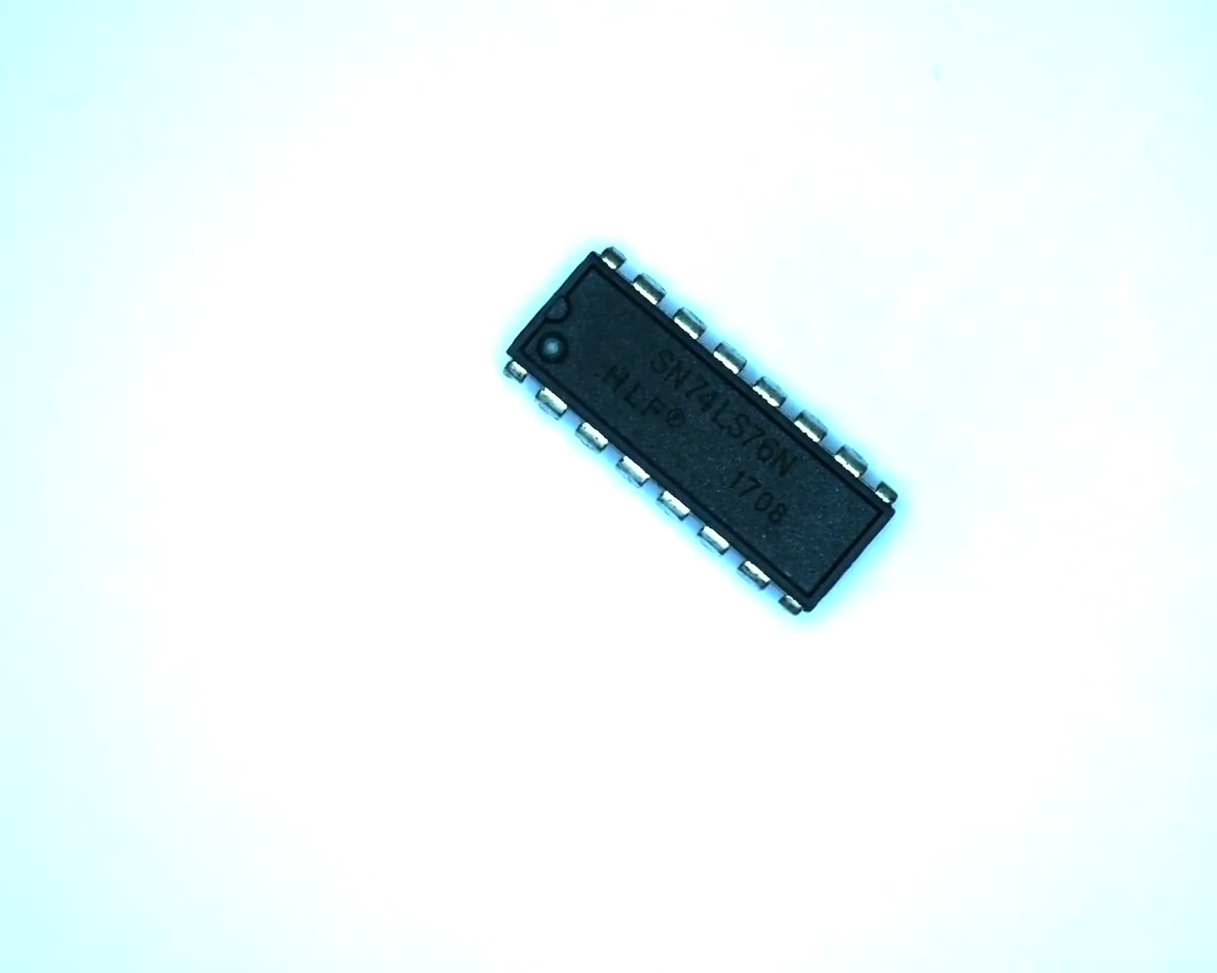IC: (485, 240, 907, 631)
notch: (541, 289, 577, 327)
